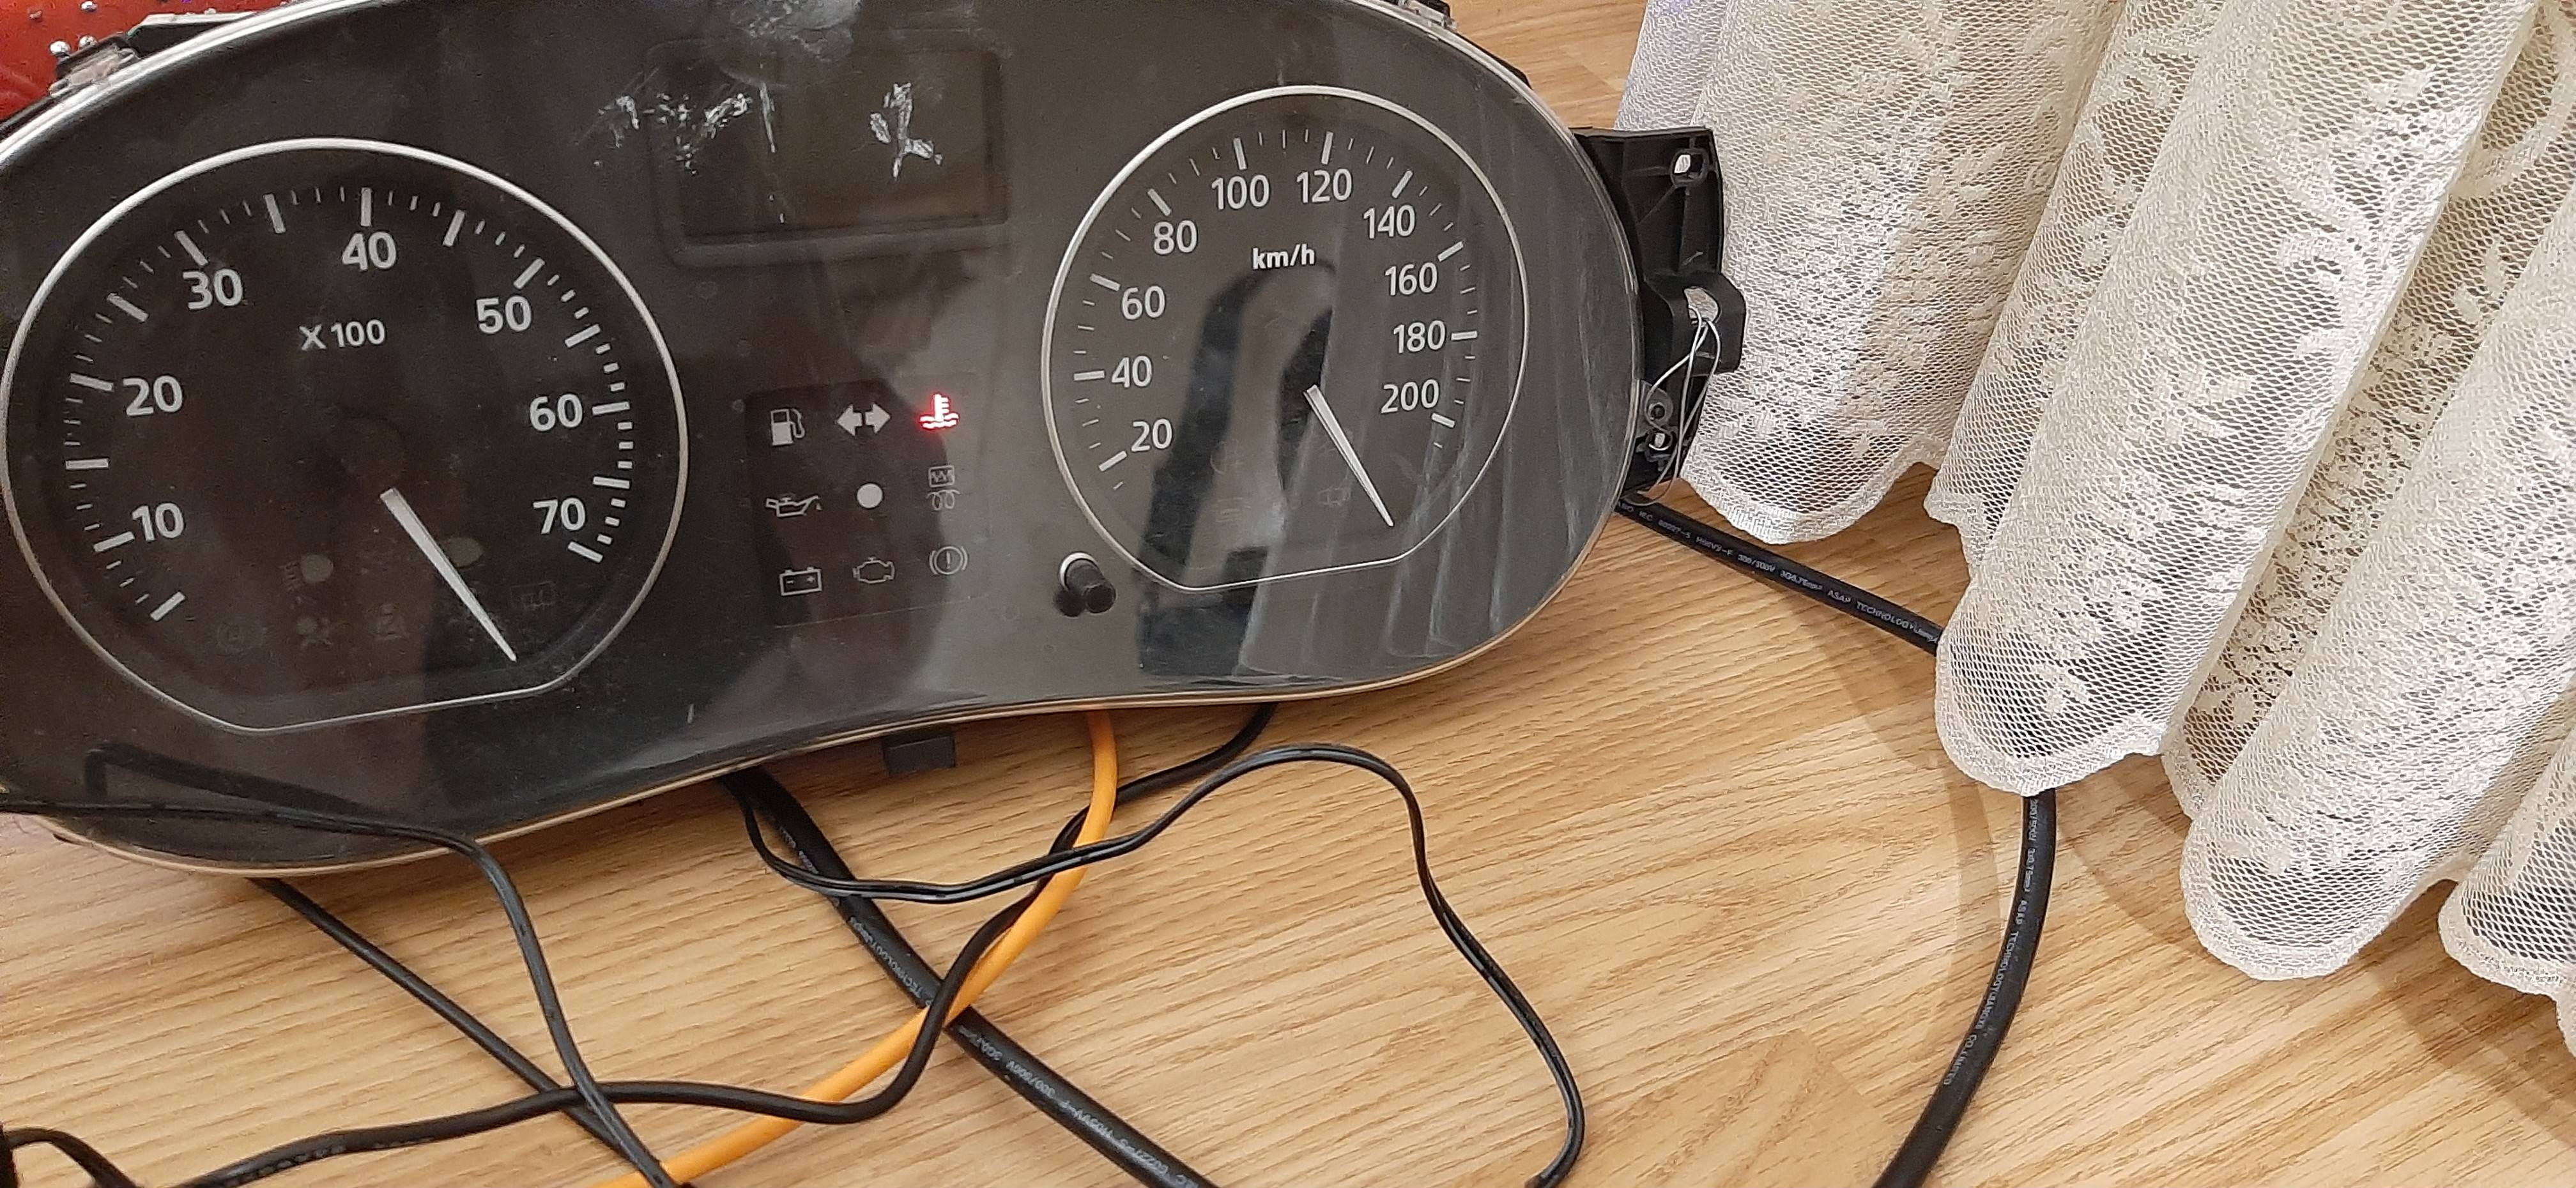Engine Overheating22: (917, 391, 961, 431)
